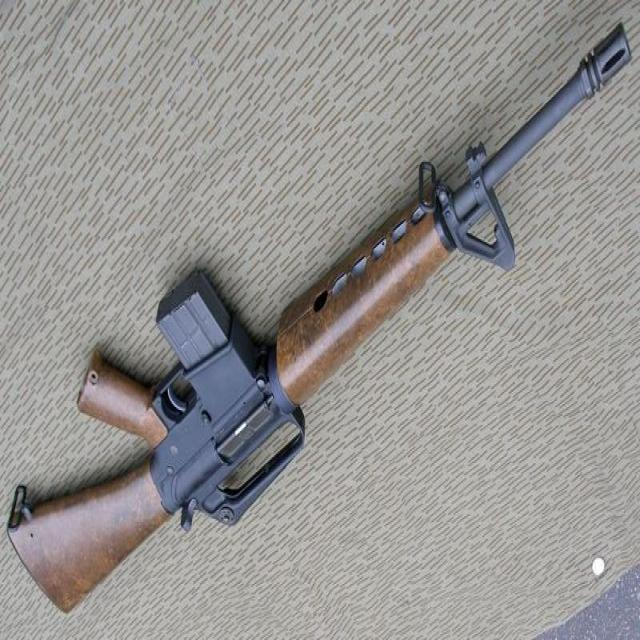weapon: (6, 22, 632, 614)
